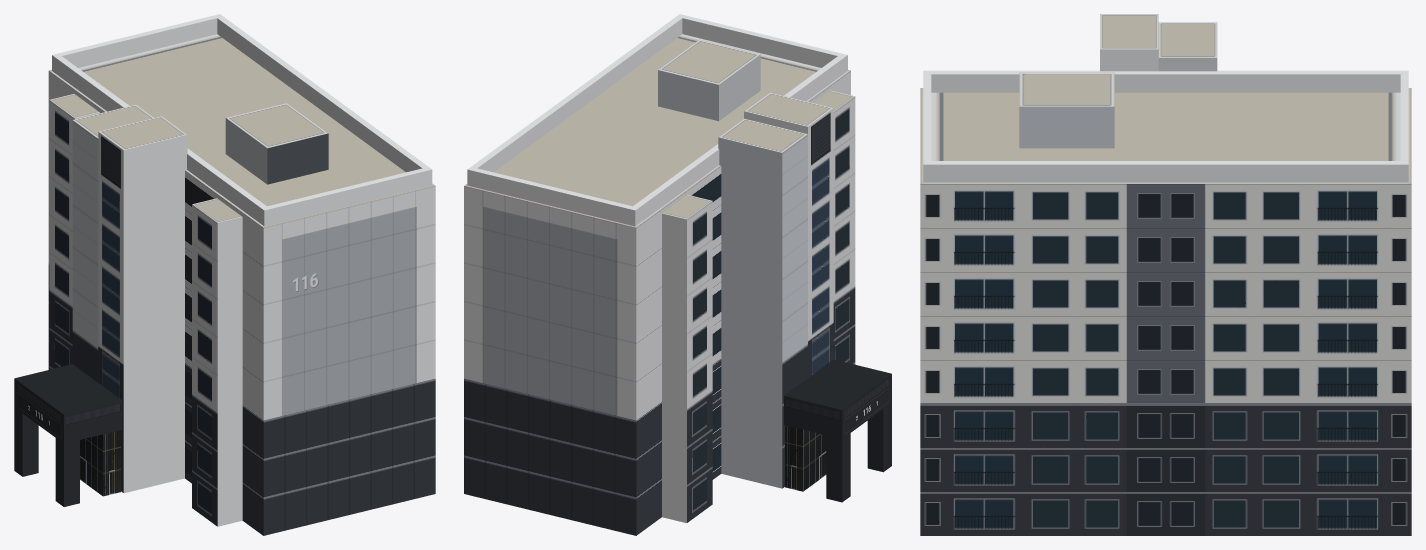
Rendered from 3D_place_116.glb.
3 views of the same model, side by side, from view 1: azimuth 30°, elevation 25°; view 2: azimuth 150°, elevation 25°; view 3: azimuth 270°, elevation 25° (orthographic). The views are drawn at different scales.
Visible parts, largest first — view 1: KumhoParkHills_116; view 2: KumhoParkHills_116; view 3: KumhoParkHills_116.
Boxes of the visible parts, x1=… form: KumhoParkHills_116: x1=14, y1=14, x2=435, y2=535; KumhoParkHills_116: x1=464, y1=14, x2=891, y2=535; KumhoParkHills_116: x1=920, y1=14, x2=1411, y2=535.
Size of the model in its own units: 21.05 by 23.7 by 26.8.
32 materials, 12 textured.
